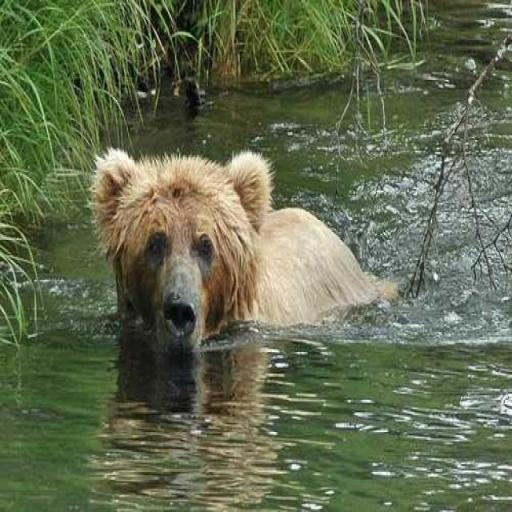Bear: (88, 144, 402, 354)
